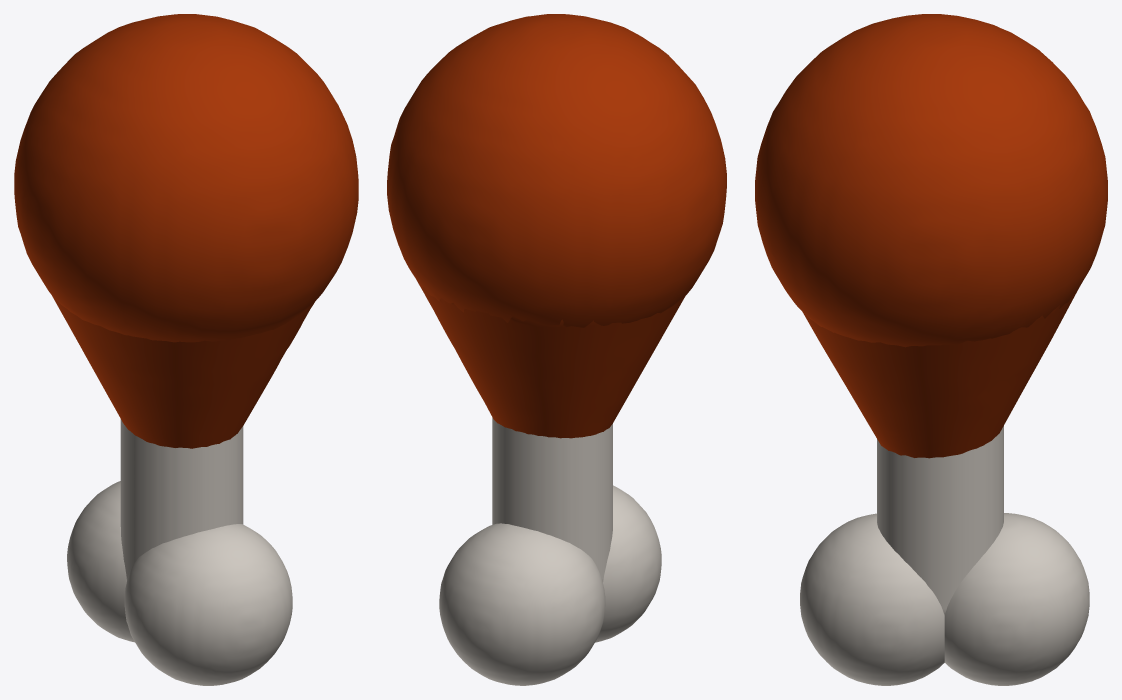
Rendered from MeatBone.fbx.
3 views of the same model, side by side, from view 1: azimuth 30°, elevation 25°; view 2: azimuth 150°, elevation 25°; view 3: azimuth 270°, elevation 25° (orthographic). The views are drawn at different scales.
Parts seen in each view (by area): view 1: Сфера.002, Сфера.001, Конус, Цилиндр, Сфера; view 2: Сфера.002, Сфера, Конус, Цилиндр, Сфера.001; view 3: Сфера.002, Конус, Сфера, Сфера.001, Цилиндр.
Part boxes in pixels (<box>): Сфера.002: <box>14,14,358,342</box>; Сфера.001: <box>124,524,292,685</box>; Конус: <box>52,296,314,448</box>; Цилиндр: <box>120,419,243,580</box>; Сфера: <box>67,481,134,642</box>; Сфера.002: <box>387,14,726,327</box>; Сфера: <box>439,523,605,685</box>; Конус: <box>417,281,684,438</box>; Цилиндр: <box>492,417,612,581</box>; Сфера.001: <box>595,485,661,642</box>; Сфера.002: <box>755,14,1107,347</box>; Конус: <box>802,287,1079,458</box>; Сфера: <box>944,513,1089,685</box>; Сфера.001: <box>800,513,944,685</box>; Цилиндр: <box>877,426,1003,615</box>.
Bounding box in the file's own units: 95.35 × 193 × 95.35.
